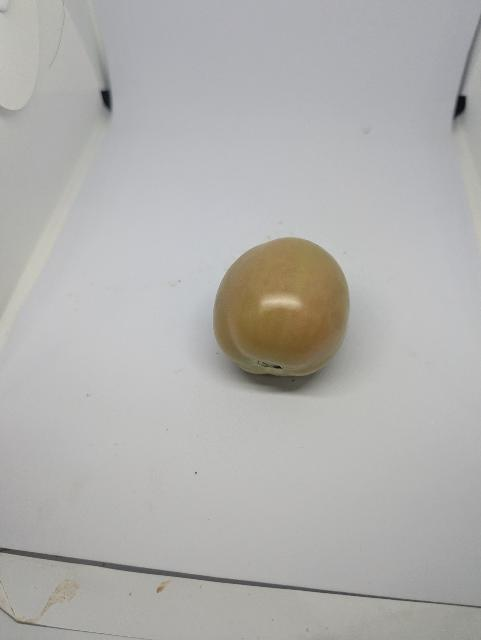breaker: (214, 238, 350, 376)
